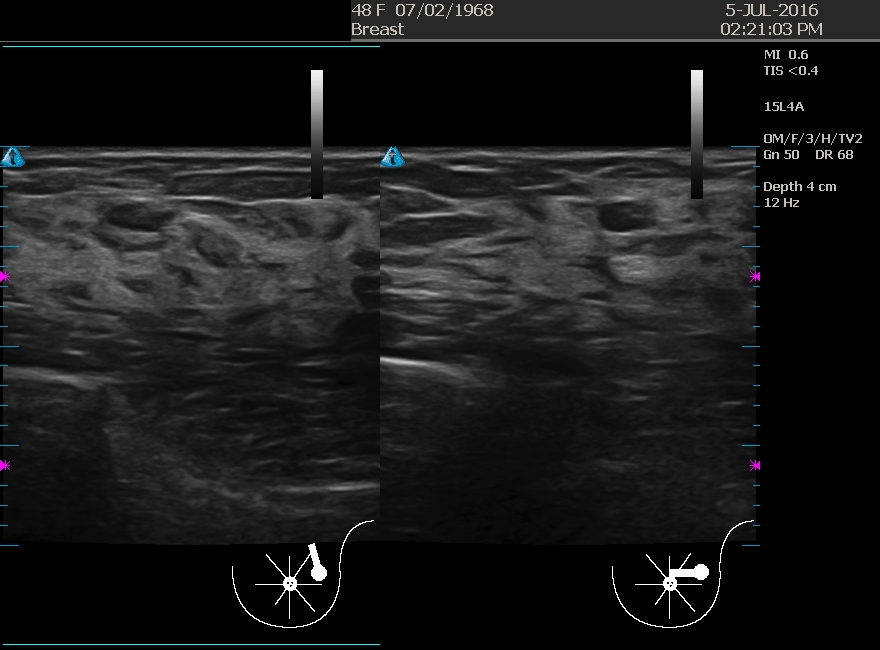BIRADS_2: (88, 149, 288, 350), (476, 175, 676, 376)
